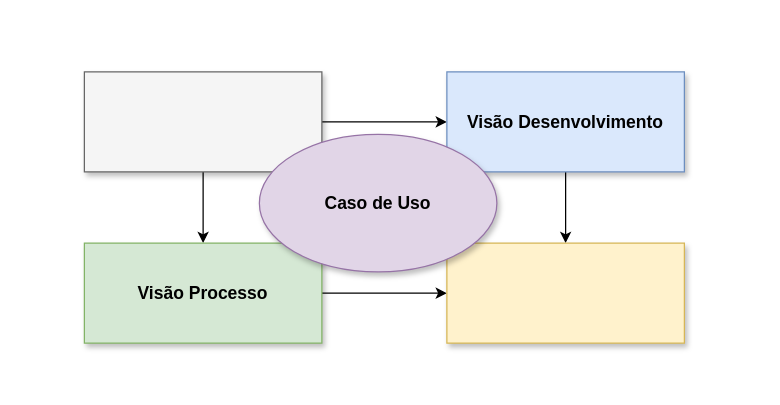
Some shapes in this 780 by 405 pixel diagram are drawn without their labels. The shapes that lost their labels are listed below. From the top down, each one's centre as x and y in pixels, then its label:
the point at 203,123: Visão Lógica
the point at 566,294: Visão Física
